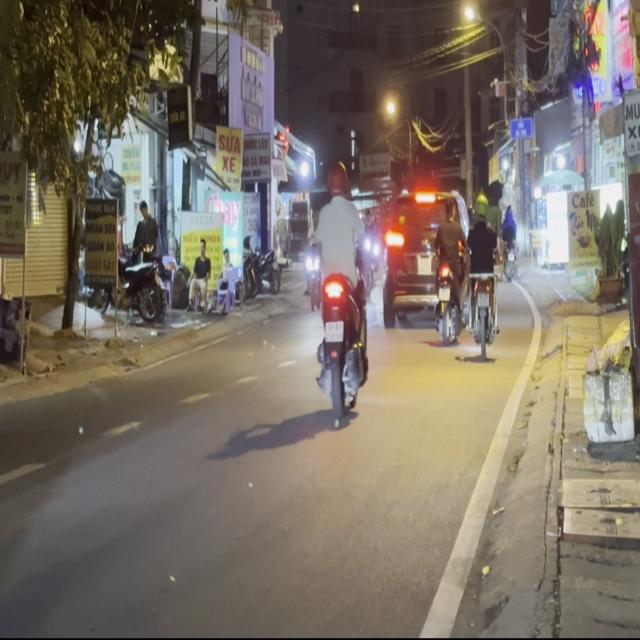helmet: (325, 159, 348, 198)
licenseplate: (311, 158, 372, 424)
nohelmet: (324, 320, 344, 342)
